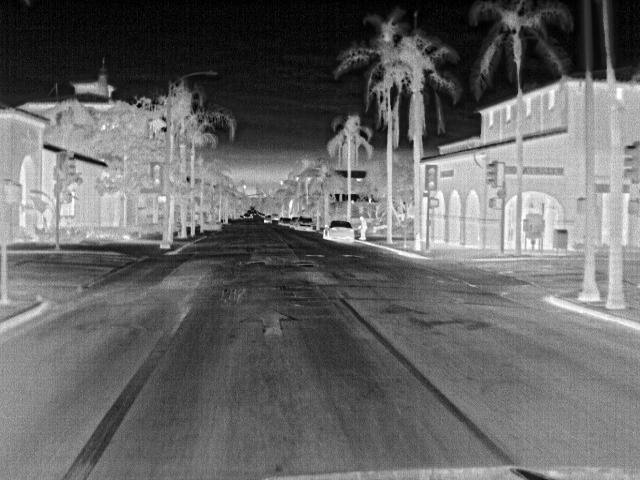car: (321, 219, 355, 244), (295, 214, 315, 230), (289, 216, 301, 228), (262, 213, 274, 225), (279, 215, 292, 226)
person: (354, 215, 368, 241)
